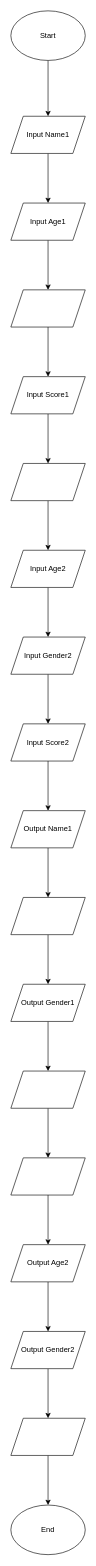
Some shapes in this 96 by 1566 pixel diagram are drawn without their labels. Here are the shapes that lost their labels. From the top down, the centre of each, then its label:
At (x=47, y=308): "Input Gender1".
At (x=47, y=482): "Input Name2".
At (x=47, y=916): "Output Age1".
At (x=47, y=1089): "Output Score1".
At (x=47, y=1176): "Output Name2".
At (x=47, y=1436): "Output Score2".
